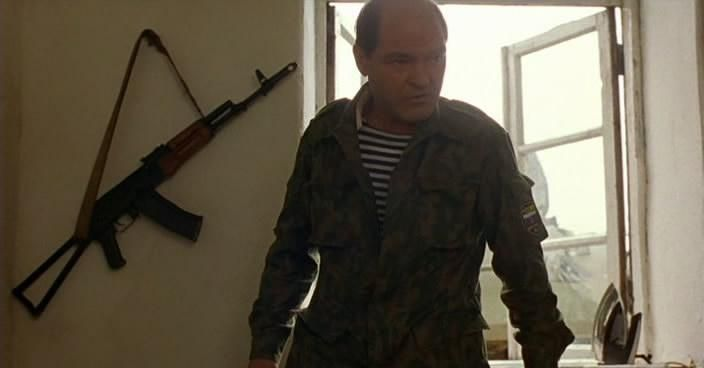gun: (22, 53, 301, 297)
uniform: (286, 97, 482, 358)
